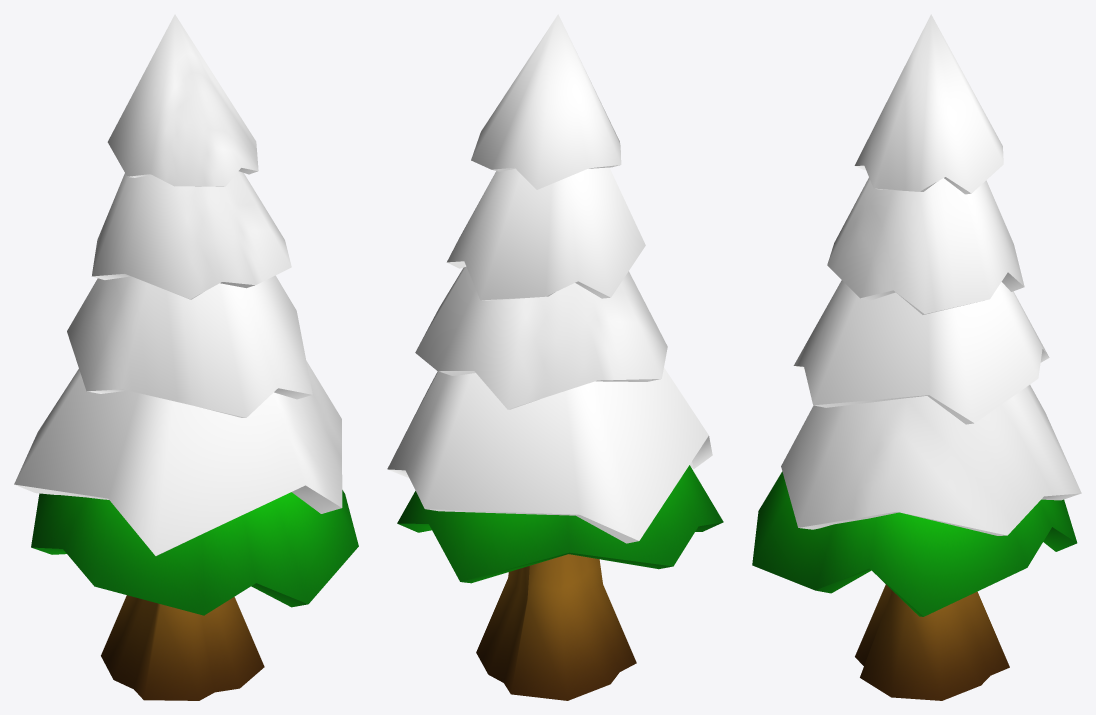
Rendered from Snow Trees.fbx.
3 renders of one model, left to right at view 1: azimuth 30°, elevation 25°; view 2: azimuth 150°, elevation 25°; view 3: azimuth 270°, elevation 25°, orthographic.
Visible parts, largest first — view 1: Snow_Tree; view 2: Snow_Tree; view 3: Snow_Tree.
Boxes of the visible parts, x1=… form: Snow_Tree: x1=14, y1=14, x2=358, y2=700; Snow_Tree: x1=387, y1=14, x2=723, y2=700; Snow_Tree: x1=752, y1=14, x2=1081, y2=700.
Size of the model in its own units: 316 by 700 by 322.
